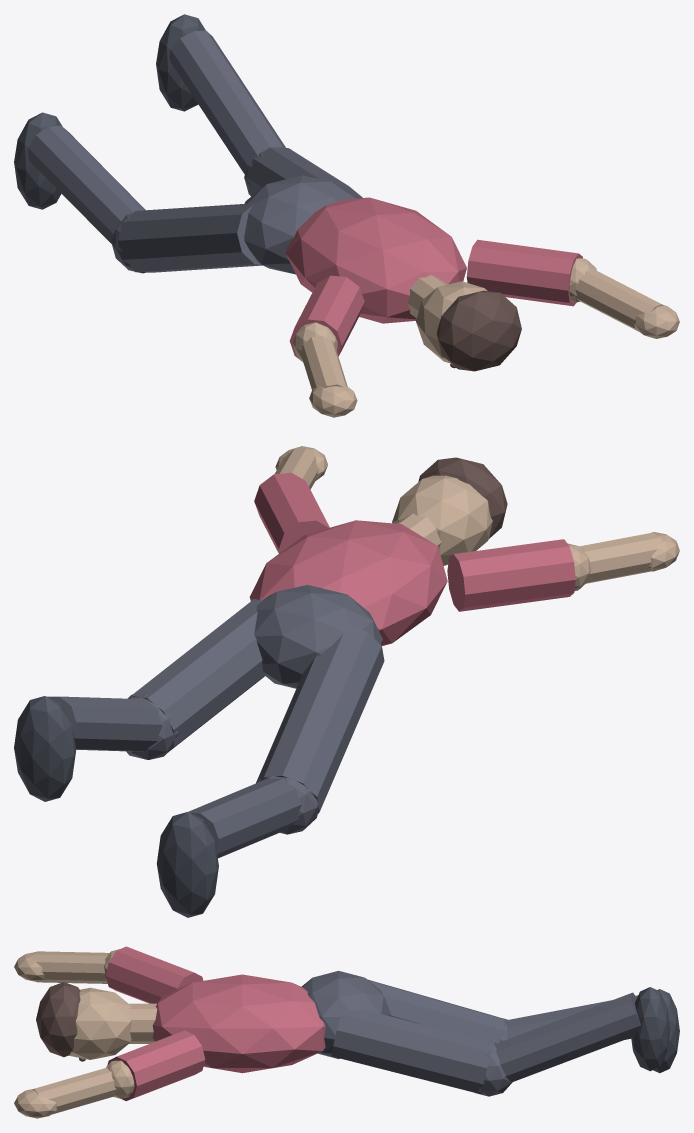
The picture shows the model from 3 angles, top to bottom: view 1: azimuth 30°, elevation 25°; view 2: azimuth 150°, elevation 25°; view 3: azimuth 270°, elevation 25°; orthographic projection. The views are drawn at different scales.
Parts seen in each view (by area): view 1: world; view 2: world; view 3: world.
Boxes of the visible parts, <box> form: world: <box>14,14,679,417</box>; world: <box>14,446,679,917</box>; world: <box>14,946,679,1118</box>.
Size of the model in its own units: 1.17 by 0.5125 by 2.14.
